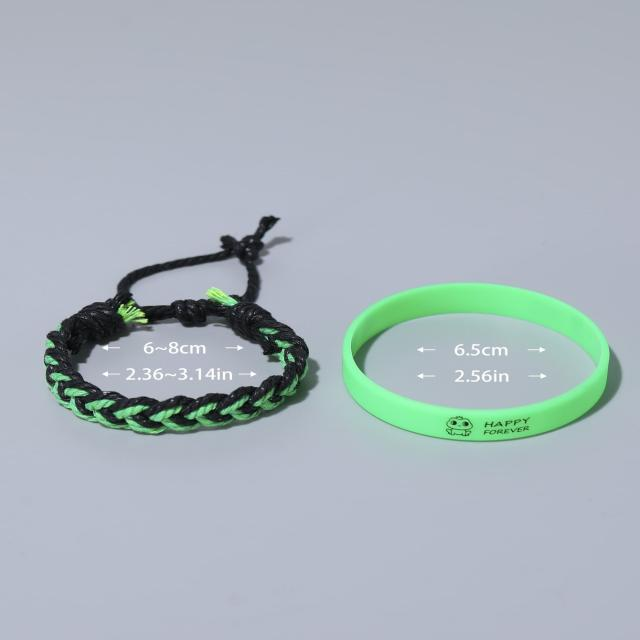bracelet: (7, 91, 327, 528), (322, 164, 640, 491)
